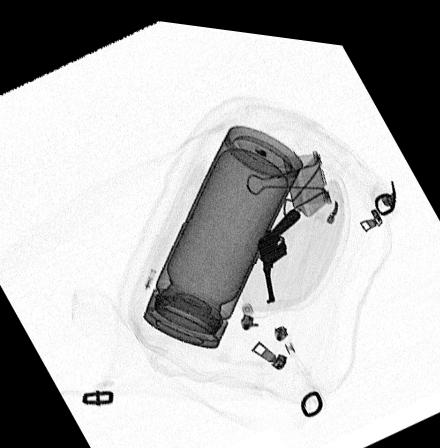Gun: (255, 197, 305, 298)
